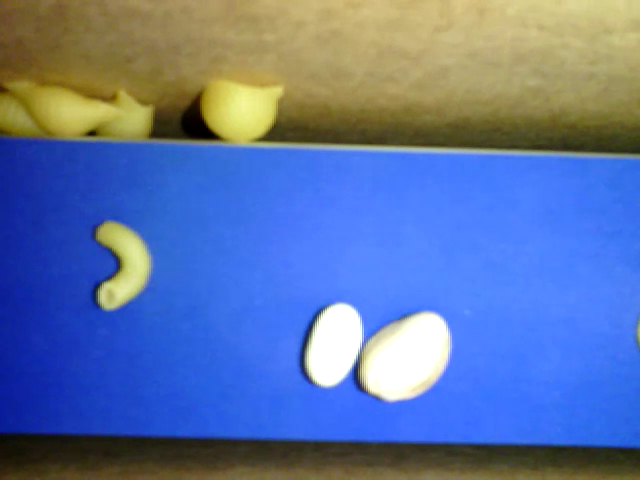elbow: (94, 217, 151, 311)
shell: (1, 78, 126, 138), (199, 82, 282, 140), (92, 87, 158, 143), (1, 94, 54, 140)
